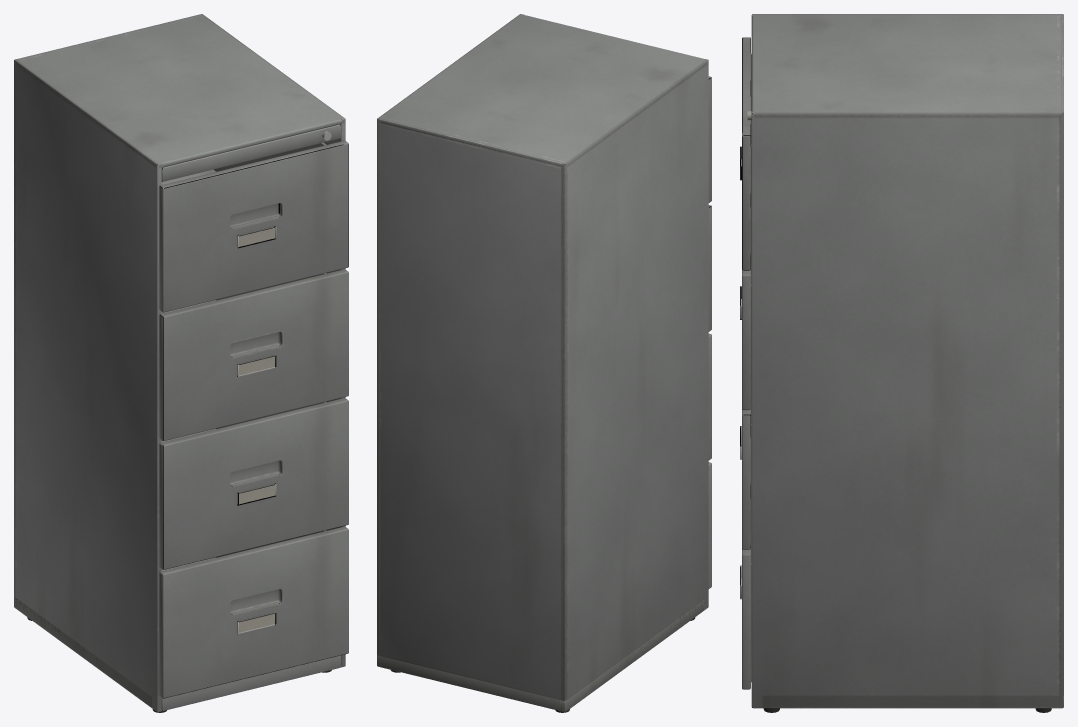
Rendered from akte_grau.glb.
3 views of the same model, side by side, from view 1: azimuth 30°, elevation 25°; view 2: azimuth 150°, elevation 25°; view 3: azimuth 270°, elevation 25° (orthographic). The views are drawn at different scales.
Visible parts, largest first — view 1: korpus, schublade_4, schublade_1, schublade_3, schublade_2; view 2: korpus; view 3: korpus, schublade_4, schublade_3, schublade_1, schublade_2.
Boxes of the visible parts, x1,y1,x2,y2 form: korpus: (14,14,345,712); schublade_4: (159,140,348,312); schublade_1: (159,526,348,698); schublade_3: (159,269,348,441); schublade_2: (159,398,348,569); korpus: (377,14,708,712); korpus: (747,14,1063,712); schublade_4: (740,37,751,270); schublade_3: (740,263,751,410); schublade_1: (740,542,751,689); schublade_2: (740,403,751,549).
Bounding box in the file's own units: 0.47 × 1.32 × 0.643.
Materials: 1 (1 with a texture image).
